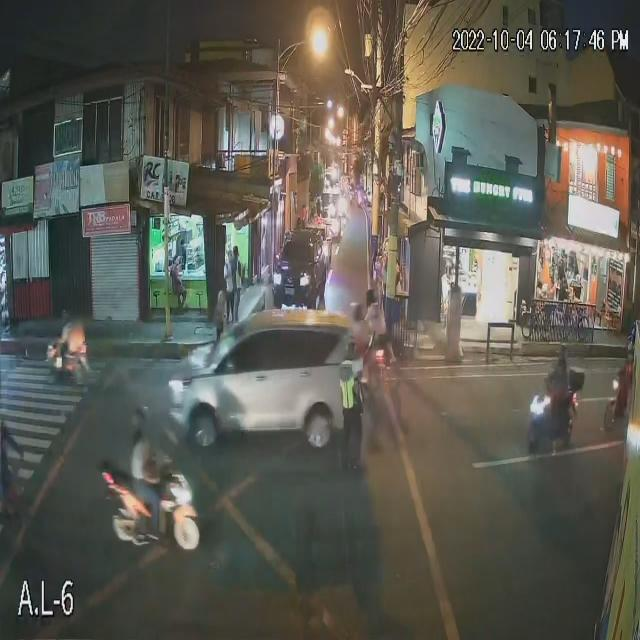helmet: (128, 411, 150, 430), (352, 303, 364, 319), (365, 288, 377, 302), (557, 346, 567, 362)
motorcycle: (98, 473, 199, 547), (43, 347, 93, 384), (529, 399, 573, 439), (355, 346, 409, 368)
rider: (129, 446, 153, 516), (368, 305, 389, 343), (64, 327, 79, 370), (350, 322, 365, 350), (553, 368, 561, 419)
